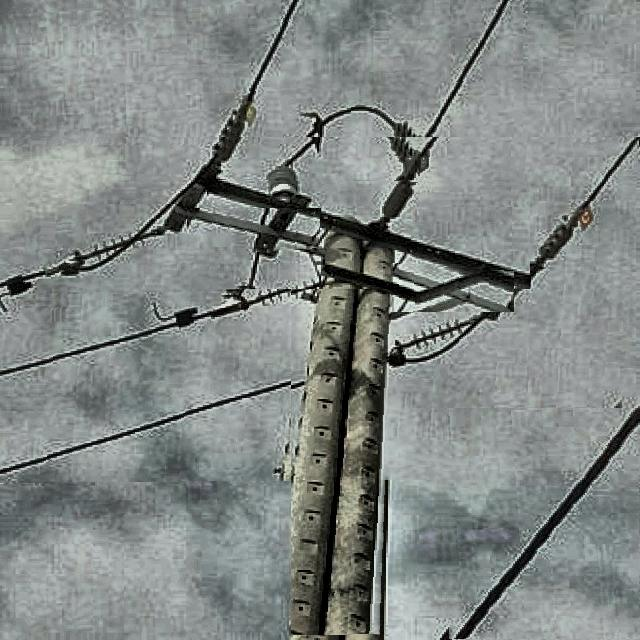crossarm: (208, 180, 530, 289), (392, 264, 514, 312), (188, 208, 320, 250)
pole: (291, 236, 368, 635), (342, 240, 394, 635)
wire: (0, 137, 640, 479), (4, 0, 513, 384), (0, 0, 305, 296), (447, 409, 639, 640)
